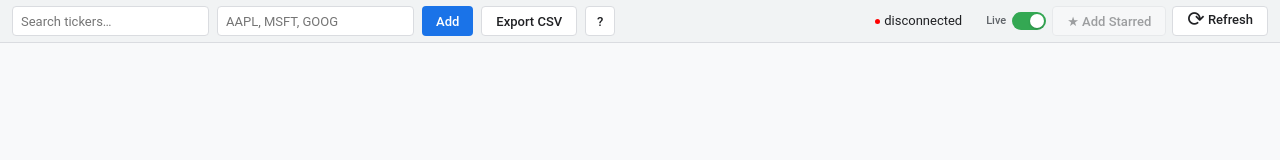
Test: ToolBar › shows validation error for duplicate ticker
Type "AAPL" into the field named "Ticker symbols, comma separated". click: {"x": 316, "y": 21}
box: [217, 6, 414, 36]
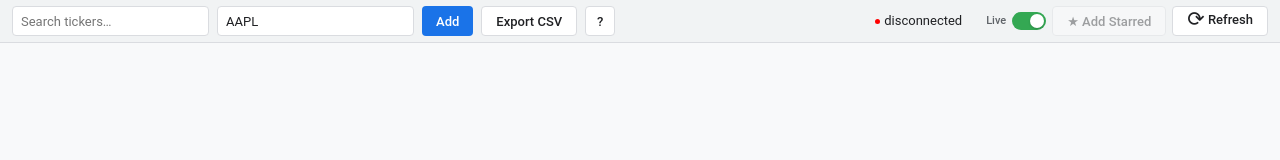
Click the button "Add". click: {"x": 448, "y": 21}
box: [422, 6, 473, 36]
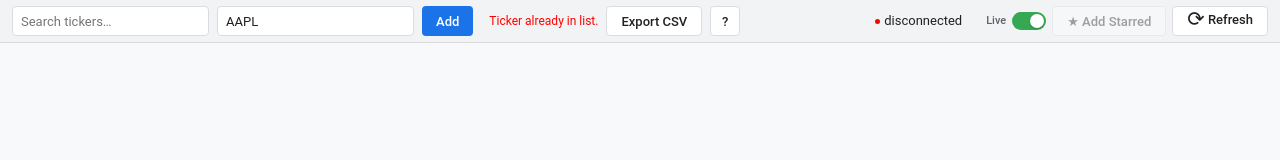
Expected: the message reads "Ticker already in list.", [489, 14, 598, 28]
